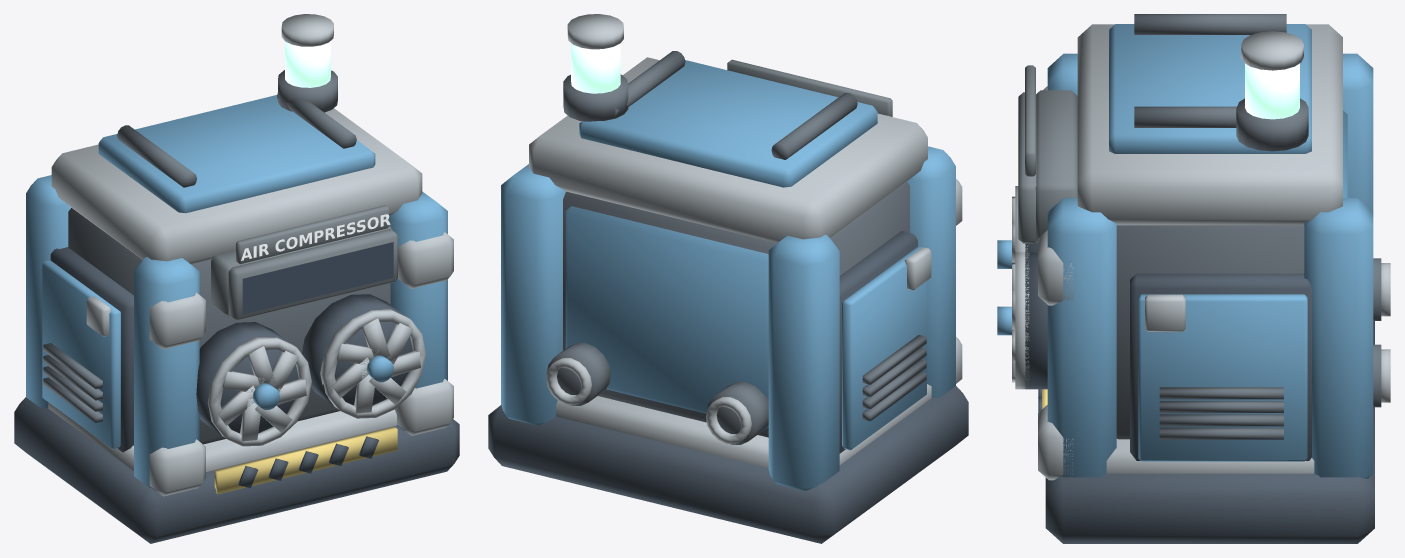
File: air_compressor_standard.glb
3 views of the same model, side by side, from view 1: azimuth 30°, elevation 25°; view 2: azimuth 150°, elevation 25°; view 3: azimuth 270°, elevation 25° (orthographic). The views are drawn at different scales.
Visible parts, largest first — view 1: Frame_blue_legacy_4, Base_black_legacy_0, TopCap_steel_legacy_10, RoofPanel_blue_legacy_11, CornerGuard_steel_legacy_5, FanBlade_steel_legacy_15, ServiceDoor_blue_legacy_7, Fan_black_legacy_13, Housing_dark_legacy_2, FanGuard_steel_legacy_14, LiveViewSurface_glass, Skirt_steel_legacy_1 (+14 smaller); view 2: Frame_blue_legacy_4, Armor_blue_legacy_3, Base_black_legacy_0, TopCap_steel_legacy_10, RoofPanel_blue_legacy_11, ServiceDoor_blue_legacy_7, Housing_dark_legacy_2, Skirt_steel_legacy_1, RearPort_dark_legacy_26, LiftRail_dark_legacy_12, SideVents_dark_legacy_8, SidePanel_black_legacy_6 (+7 smaller); view 3: Frame_blue_legacy_4, TopCap_steel_legacy_10, Base_black_legacy_0, ServiceDoor_blue_legacy_7, RoofPanel_blue_legacy_11, Housing_dark_legacy_2, SideVents_dark_legacy_8, SidePanel_black_legacy_6, LiftRail_dark_legacy_12, ScreenMount_frame, CornerGuard_steel_legacy_5, Skirt_steel_legacy_1 (+12 smaller).
Part boxes in pixels (bbox=[...]): Frame_blue_legacy_4: bbox=[26, 175, 447, 491]; Base_black_legacy_0: bbox=[14, 397, 459, 543]; TopCap_steel_legacy_10: bbox=[51, 108, 422, 264]; RoofPanel_blue_legacy_11: bbox=[98, 95, 375, 213]; CornerGuard_steel_legacy_5: bbox=[146, 232, 453, 496]; FanBlade_steel_legacy_15: bbox=[218, 318, 420, 441]; ServiceDoor_blue_legacy_7: bbox=[42, 260, 120, 449]; Fan_black_legacy_13: bbox=[196, 294, 412, 435]; Housing_dark_legacy_2: bbox=[68, 208, 390, 444]; FanGuard_steel_legacy_14: bbox=[207, 308, 425, 446]; LiveViewSurface_glass: bbox=[242, 242, 393, 314]; Skirt_steel_legacy_1: bbox=[48, 402, 396, 471]; Frame_blue_legacy_4: bbox=[501, 146, 955, 490]; Armor_blue_legacy_3: bbox=[565, 206, 768, 428]; Base_black_legacy_0: bbox=[488, 386, 968, 543]; TopCap_steel_legacy_10: bbox=[529, 57, 927, 242]; RoofPanel_blue_legacy_11: bbox=[579, 60, 877, 187]; ServiceDoor_blue_legacy_7: bbox=[842, 246, 926, 450]; Housing_dark_legacy_2: bbox=[563, 181, 909, 437]; Skirt_steel_legacy_1: bbox=[556, 384, 931, 468]; RearPort_dark_legacy_26: bbox=[546, 343, 768, 444]; LiftRail_dark_legacy_12: bbox=[615, 51, 857, 159]; SideVents_dark_legacy_8: bbox=[862, 335, 926, 421]; SidePanel_black_legacy_6: bbox=[839, 231, 917, 453]; Frame_blue_legacy_4: bbox=[1047, 53, 1373, 478]; TopCap_steel_legacy_10: bbox=[1077, 24, 1342, 225]; Base_black_legacy_0: bbox=[1045, 321, 1374, 543]; ServiceDoor_blue_legacy_7: bbox=[1138, 294, 1307, 461]; RoofPanel_blue_legacy_11: bbox=[1109, 24, 1311, 153]; Housing_dark_legacy_2: bbox=[1116, 225, 1304, 439]; SideVents_dark_legacy_8: bbox=[1159, 387, 1283, 439]; SidePanel_black_legacy_6: bbox=[1130, 273, 1311, 460]; LiftRail_dark_legacy_12: bbox=[1134, 14, 1286, 127]; ScreenMount_frame: bbox=[1035, 90, 1077, 242]; CornerGuard_steel_legacy_5: bbox=[1038, 86, 1073, 480]; Skirt_steel_legacy_1: bbox=[1106, 439, 1314, 473].
Size of the model in its own units: 1.43 by 1.65 by 1.25.
